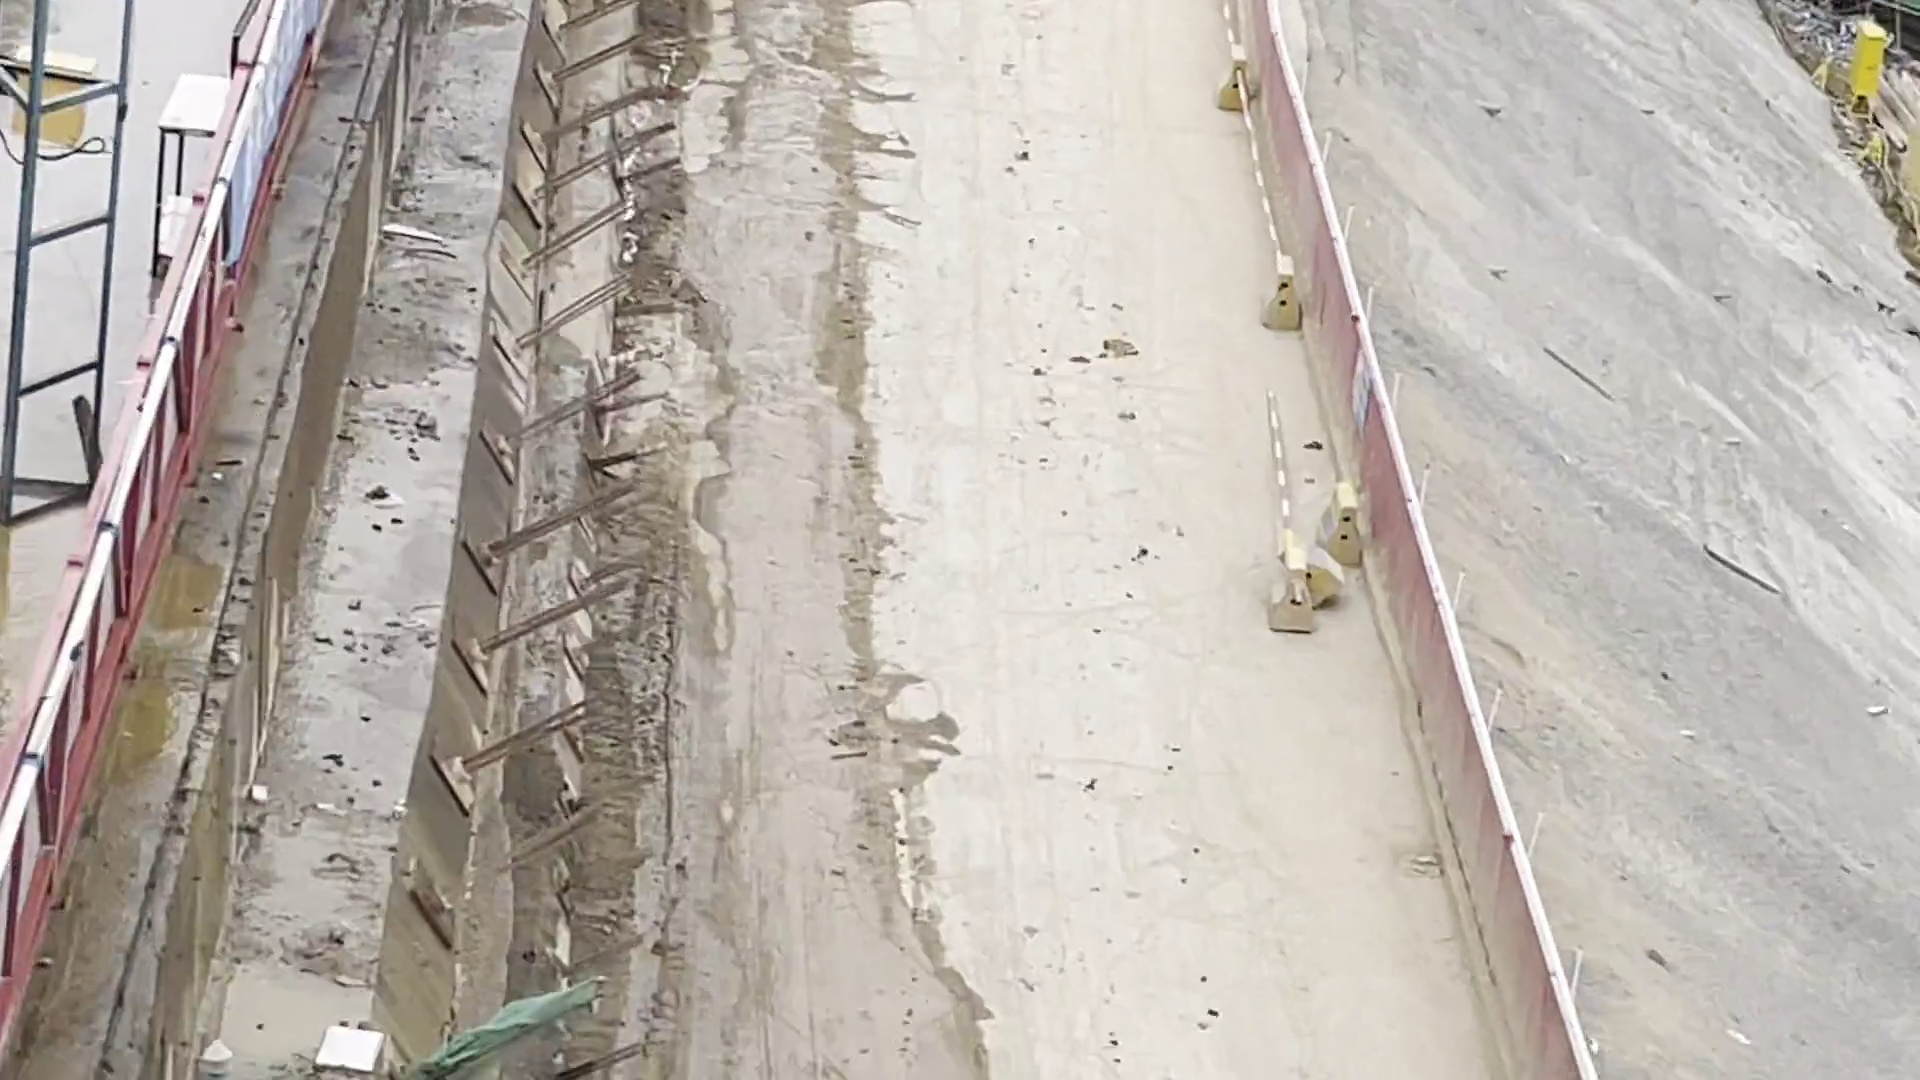ebox: (11, 41, 91, 154), (1838, 18, 1902, 120)
fence: (1317, 429, 1643, 1080), (1218, 4, 1429, 454), (1, 537, 157, 1080), (80, 212, 208, 572), (193, 3, 310, 339)
slogan: (225, 9, 349, 269)
